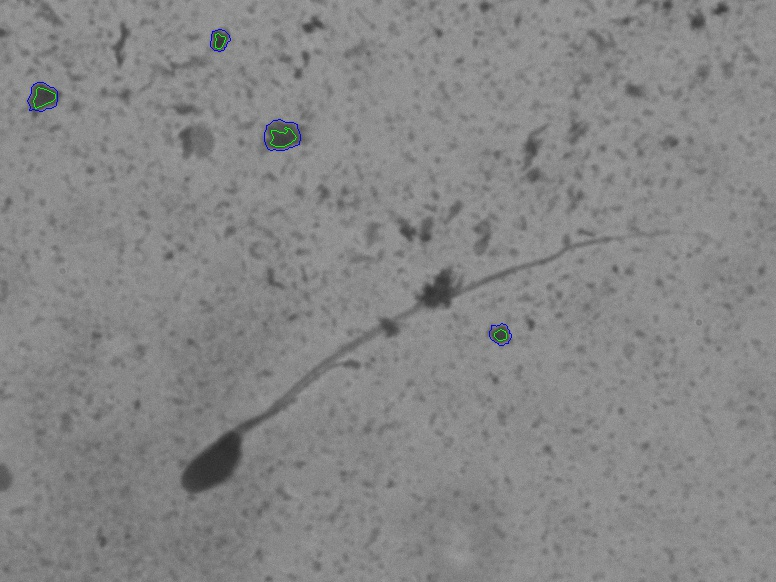Abnormal: (132, 201, 684, 526)
